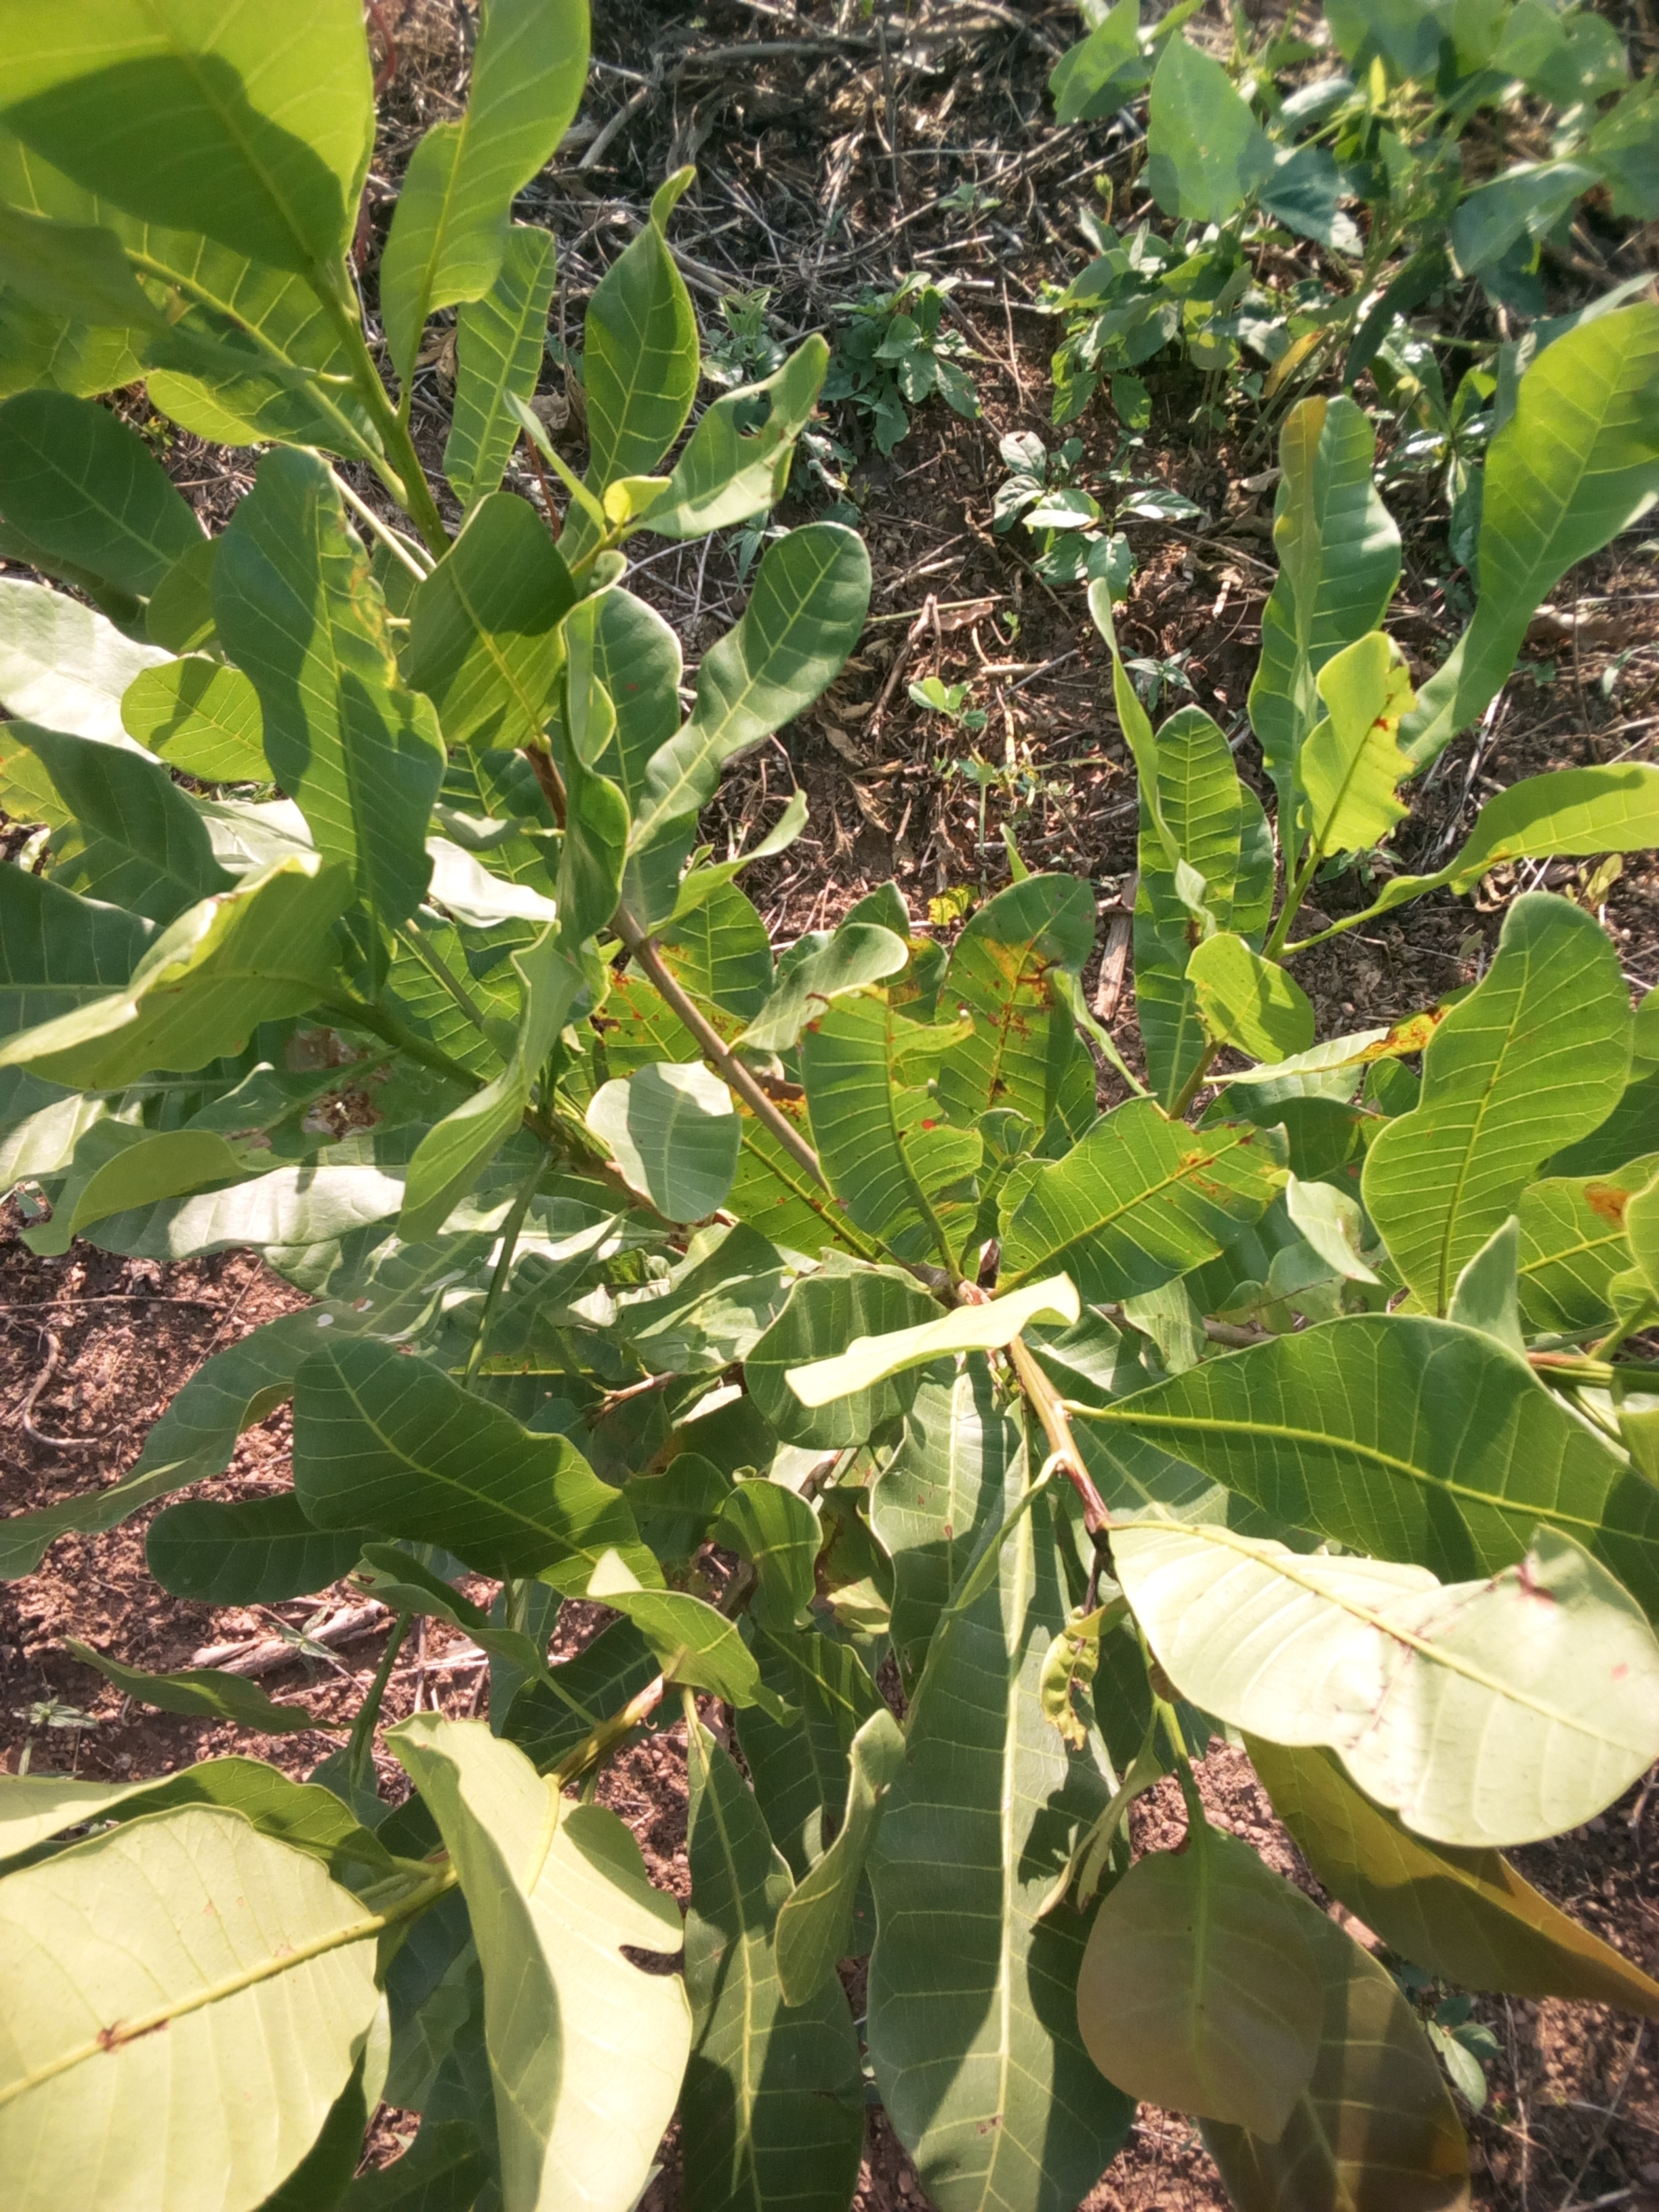Dysdercus wolkerii: (918, 841, 1127, 1242)
